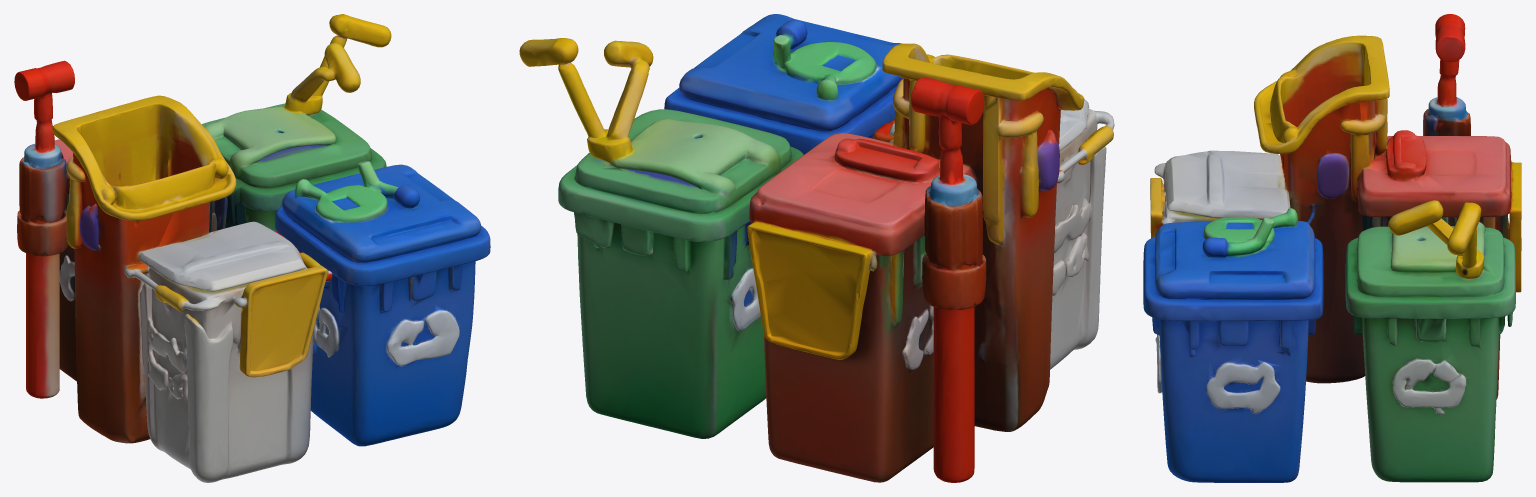
The model's file is plaza-trash-recycle.glb.
3 renders of one model, left to right at view 1: azimuth 30°, elevation 25°; view 2: azimuth 150°, elevation 25°; view 3: azimuth 270°, elevation 25°, orthographic. The views are drawn at different scales.
Parts seen in each view (by area): view 1: tripo_node_ec8c9d89-ebc8-425b-a67b-42c0cc0d2306; view 2: tripo_node_ec8c9d89-ebc8-425b-a67b-42c0cc0d2306; view 3: tripo_node_ec8c9d89-ebc8-425b-a67b-42c0cc0d2306.
Boxes of the visible parts, x1,y1,x2,y2 form: tripo_node_ec8c9d89-ebc8-425b-a67b-42c0cc0d2306: (14, 14, 490, 482); tripo_node_ec8c9d89-ebc8-425b-a67b-42c0cc0d2306: (519, 14, 1114, 482); tripo_node_ec8c9d89-ebc8-425b-a67b-42c0cc0d2306: (1143, 14, 1521, 482).
Size of the model in its own units: 1.22 by 1 by 1.06.
Materials: 1 (1 with a texture image).
